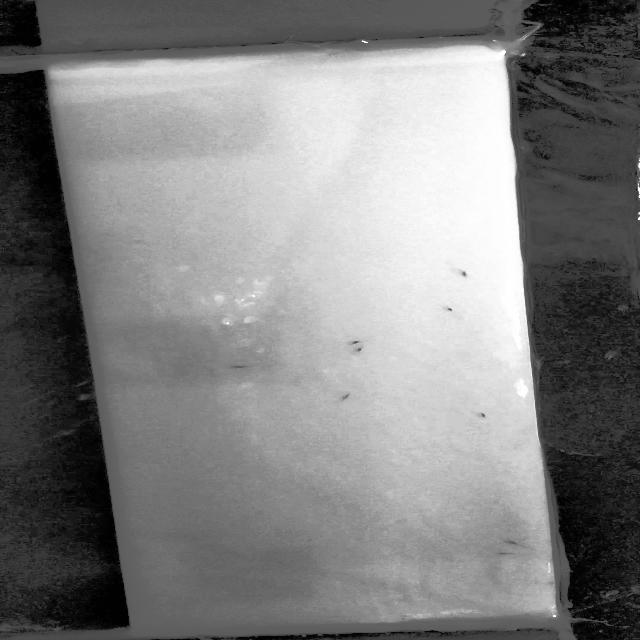shrimp: (348, 344, 371, 360), (478, 410, 502, 424), (342, 335, 369, 347), (332, 388, 355, 402), (454, 268, 471, 286), (221, 363, 249, 373), (438, 302, 461, 314), (502, 538, 529, 548), (491, 550, 526, 556)
